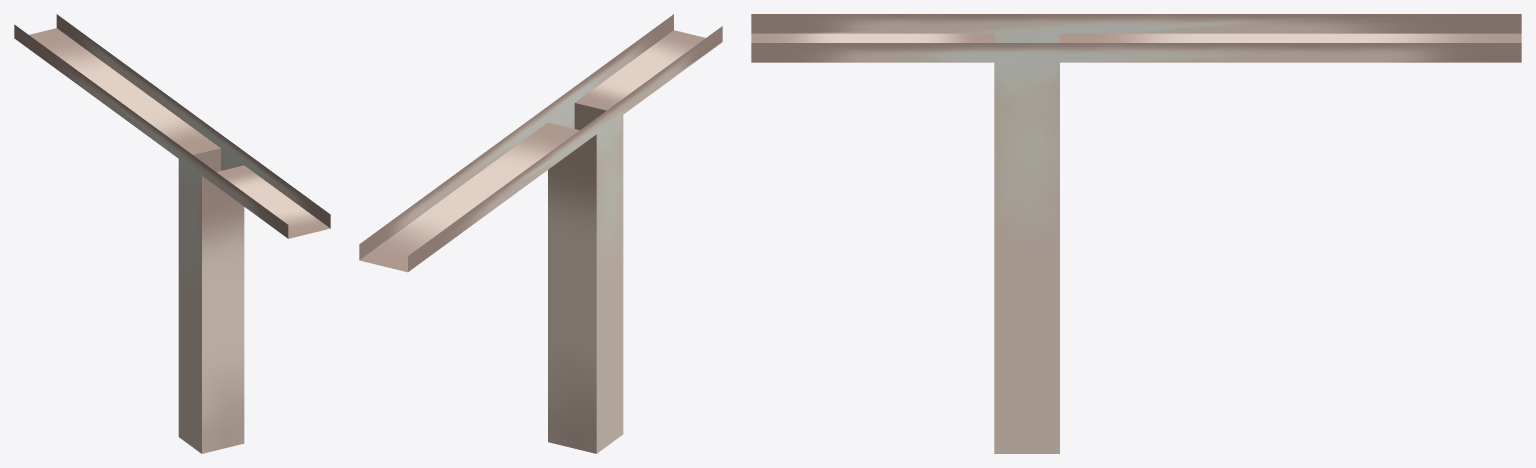
File: Pillar.fbx
3 views of the same model, side by side, from view 1: azimuth 30°, elevation 25°; view 2: azimuth 150°, elevation 25°; view 3: azimuth 270°, elevation 25° (orthographic). The views are drawn at different scales.
Visible parts, largest first — view 1: Box021; view 2: Box021; view 3: Box021.
Part boxes in pixels (x1,y1,x2,y2): Box021: (14, 14, 330, 453); Box021: (359, 14, 722, 453); Box021: (751, 14, 1521, 453).
Bounding box in the file's own units: 13.04 × 86.03 × 146.
